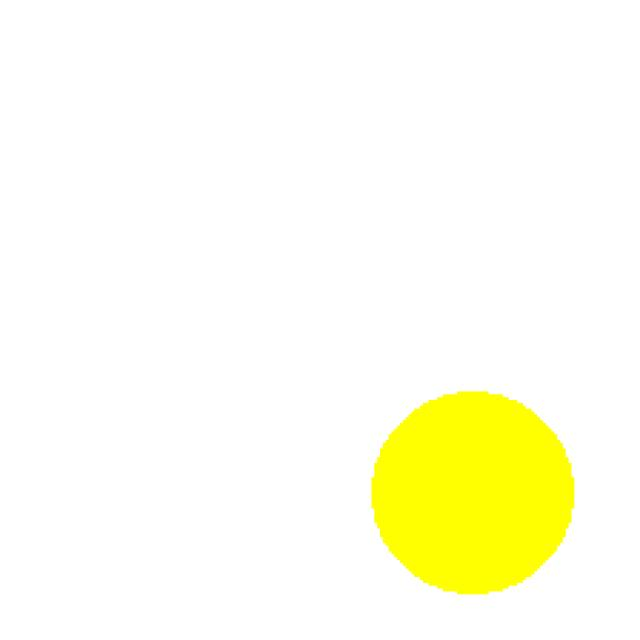Circle: (343, 372, 598, 604)
